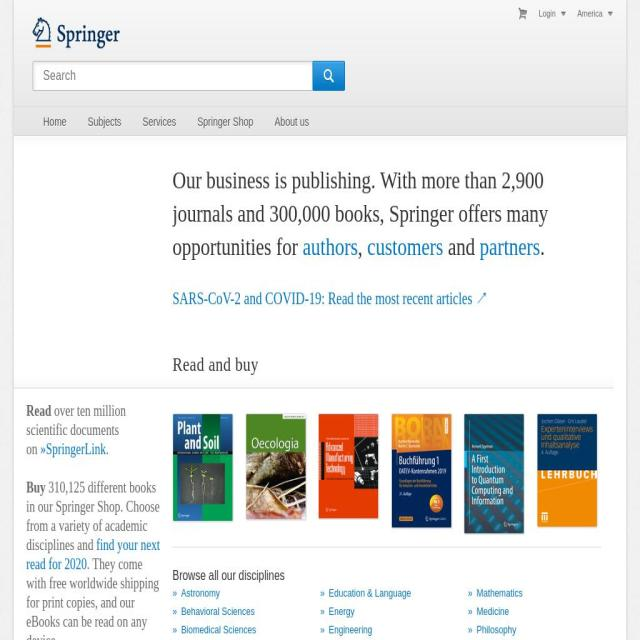button: (187, 106, 264, 136), (264, 106, 320, 136), (77, 106, 132, 136), (132, 106, 187, 136), (32, 106, 78, 136), (320, 587, 411, 601), (172, 622, 256, 636), (172, 605, 255, 619), (468, 587, 523, 601), (320, 622, 372, 636), (467, 622, 517, 636), (172, 587, 220, 601), (468, 605, 510, 619), (320, 605, 355, 619), (577, 8, 622, 18), (538, 8, 576, 18), (530, 10, 532, 19)
field: (33, 62, 313, 90), (312, 61, 346, 91)
heading: (173, 352, 592, 377), (172, 569, 601, 583), (172, 289, 488, 308)
image: (32, 12, 220, 53), (464, 412, 524, 532), (390, 412, 450, 526), (537, 412, 597, 526), (172, 412, 232, 520), (245, 413, 305, 519), (318, 412, 378, 518)
link: (26, 536, 160, 572), (367, 232, 448, 260), (479, 232, 540, 260), (302, 232, 358, 260), (40, 440, 106, 458)
text: (172, 166, 548, 260), (26, 555, 159, 640), (27, 478, 160, 554), (26, 402, 126, 458), (329, 587, 411, 600), (181, 622, 256, 636), (181, 605, 255, 618), (448, 232, 480, 260), (328, 622, 372, 636), (477, 587, 522, 600), (476, 622, 516, 636), (181, 587, 220, 600), (26, 402, 52, 419), (476, 605, 509, 618), (26, 478, 49, 496), (329, 605, 355, 618), (358, 232, 368, 260), (540, 232, 546, 260), (105, 440, 108, 458), (530, 12, 532, 21)
